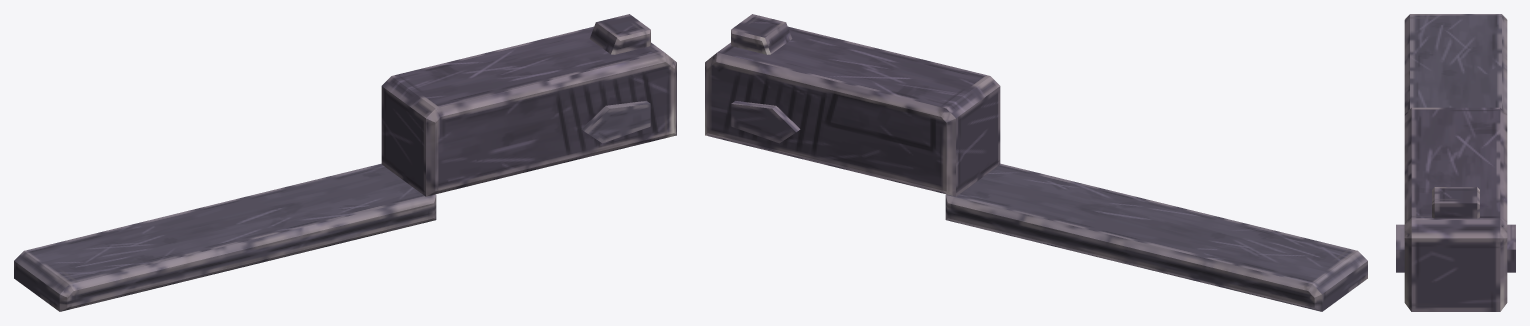
File: pistol_slide.fbx
3 views of the same model, side by side, from view 1: azimuth 30°, elevation 25°; view 2: azimuth 150°, elevation 25°; view 3: azimuth 270°, elevation 25° (orthographic).
Parts seen in each view (by area): view 1: pistol_slide; view 2: pistol_slide; view 3: pistol_slide.
Part boxes in pixels (box(x1,y1,x2,y2)): pistol_slide: box(14, 14, 676, 311); pistol_slide: box(705, 14, 1367, 311); pistol_slide: box(1396, 14, 1515, 311).
Size of the model in its own units: 0.96 by 0.1875 by 0.1605.
